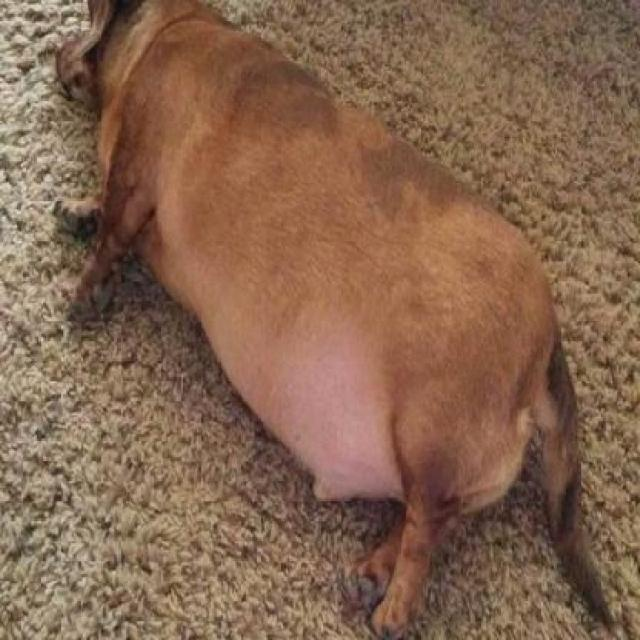Dog: (55, 0, 622, 638)
